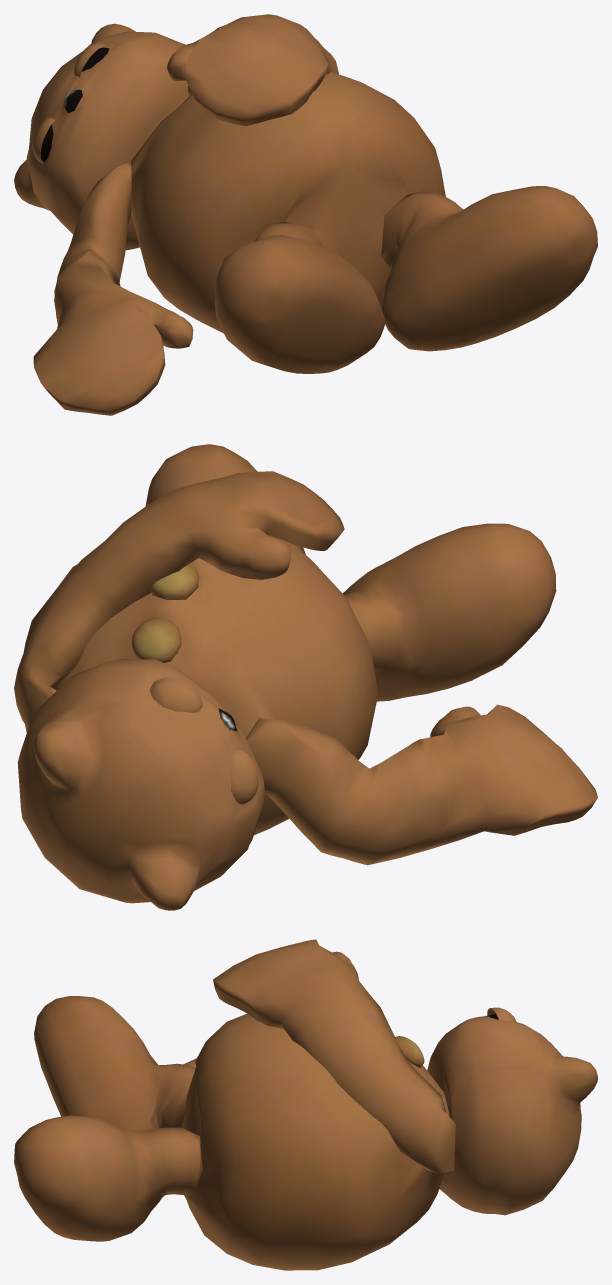
3 renders of one model, top to bottom at view 1: azimuth 30°, elevation 25°; view 2: azimuth 150°, elevation 25°; view 3: azimuth 270°, elevation 25°, orthographic. The views are drawn at different scales.
Visible parts, largest first — view 1: mudfrigimon; view 2: mudfrigimon; view 3: mudfrigimon.
Boxes of the visible parts, bbox=[...] form: mudfrigimon: bbox=[14, 14, 597, 415]; mudfrigimon: bbox=[14, 444, 597, 910]; mudfrigimon: bbox=[14, 939, 597, 1270].
Bounding box in the file's own units: 184 × 120 × 217.
1 material, 1 textured.
